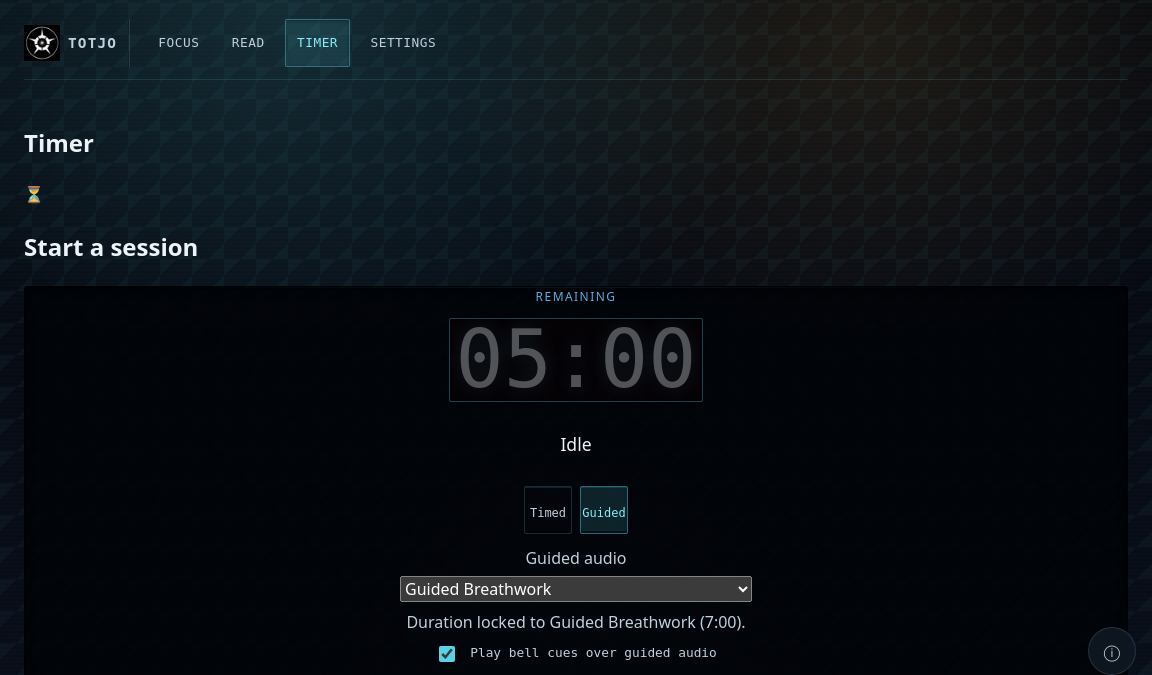
Test: guided meditation timer › switches back to timed mode and clears the guided selection
Click the button with test id "timer-mode-timed". click: (548, 510)
box: [524,486,572,534]
(page scrolled)
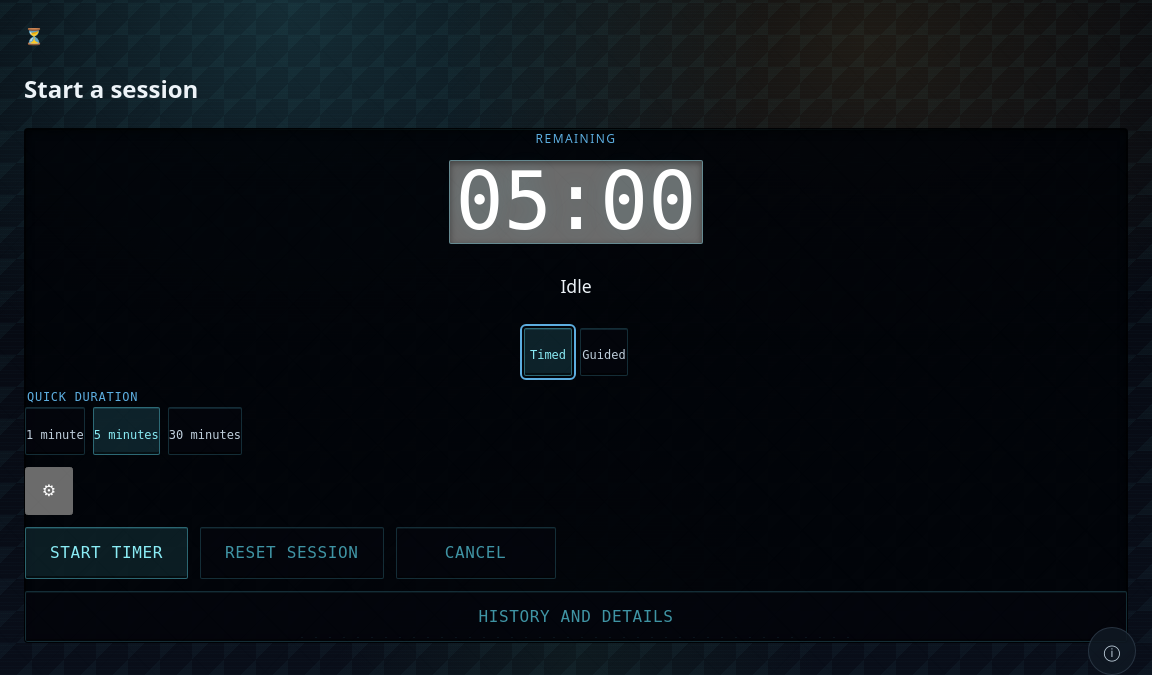
Expected: the dropdown with test id "timer-guided-audio-select" is gone
Expected: the button with test id "timer-start" reads "Start timer", [25,527,188,579]
